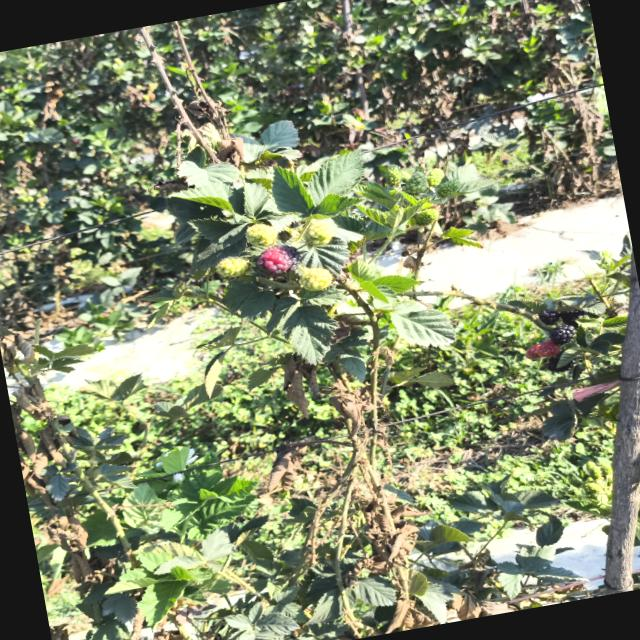maduro: (549, 324, 576, 345), (538, 309, 560, 325)
marron: (257, 245, 300, 274)
naranja: (525, 339, 560, 359)
verde: (298, 266, 333, 290), (304, 219, 333, 246), (246, 223, 277, 246), (216, 256, 249, 277), (405, 171, 428, 195), (385, 164, 410, 186), (414, 207, 439, 226), (436, 179, 461, 197), (427, 168, 445, 186)
